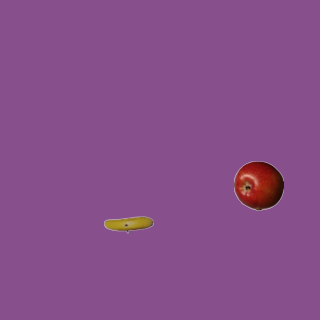Apple Braeburn: (233, 160, 283, 210)
Banana: (103, 199, 153, 249)
